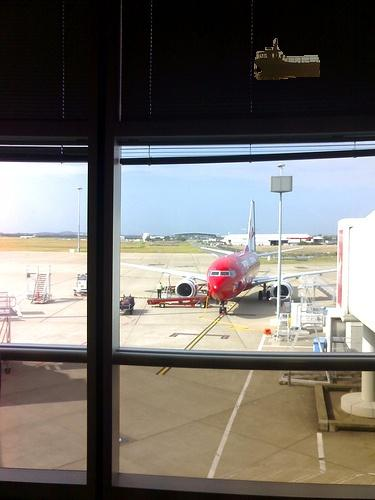tampered: (255, 38, 320, 80)
